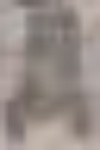D_RUS: (0, 0, 99, 149)
